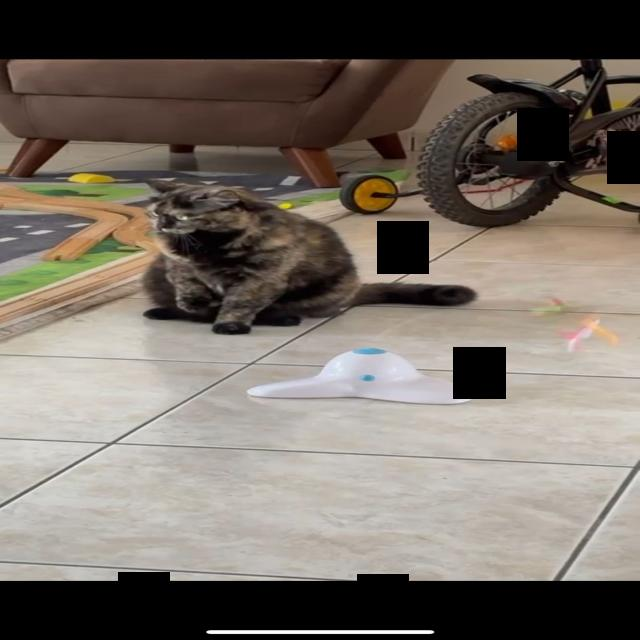authorized: (139, 177, 477, 335)
